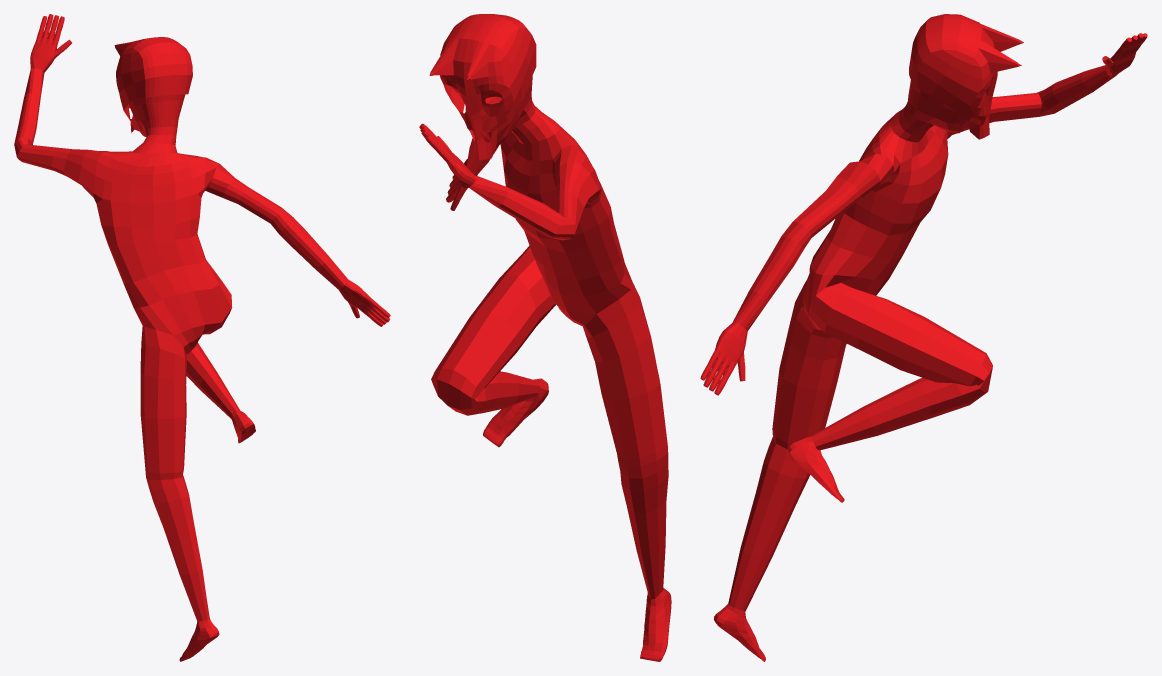
File: saltoadelanteE_000104.obj
3 views of the same model, side by side, from view 1: azimuth 30°, elevation 25°; view 2: azimuth 150°, elevation 25°; view 3: azimuth 270°, elevation 25° (orthographic). The views are drawn at different scales.
Visible parts, largest first — view 1: Plane.002_Plane.001; view 2: Plane.002_Plane.001; view 3: Plane.002_Plane.001.
Part boxes in pixels (x1,y1,x2,y2): Plane.002_Plane.001: (14,14,390,661); Plane.002_Plane.001: (419,14,671,661); Plane.002_Plane.001: (700,14,1147,661).
Bounding box in the file's own units: 3.18 × 7.1 × 4.32.
